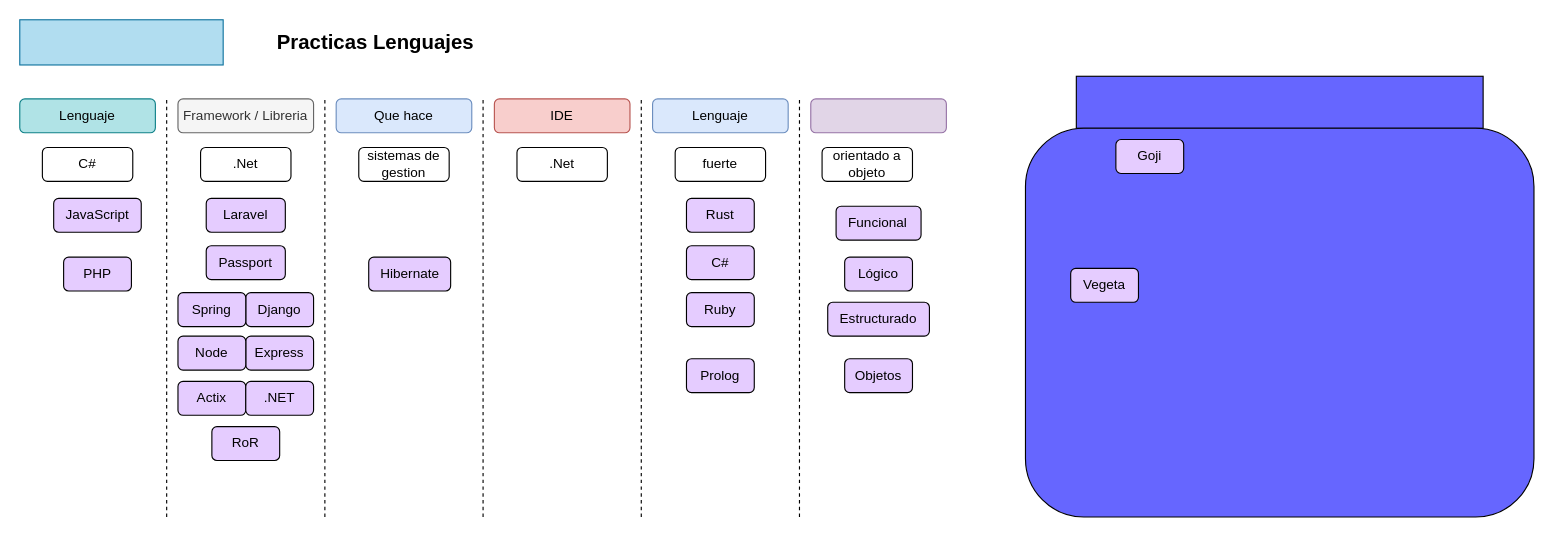
Some shapes in this 1554 by 538 pixel diagram are drawn without their labels. The box of each missing label's shape, as (x1, y1, x2, y2) in pixels:
Actividad N° 2:: (19, 19, 223, 65)
Paradigma: (810, 98, 946, 133)
